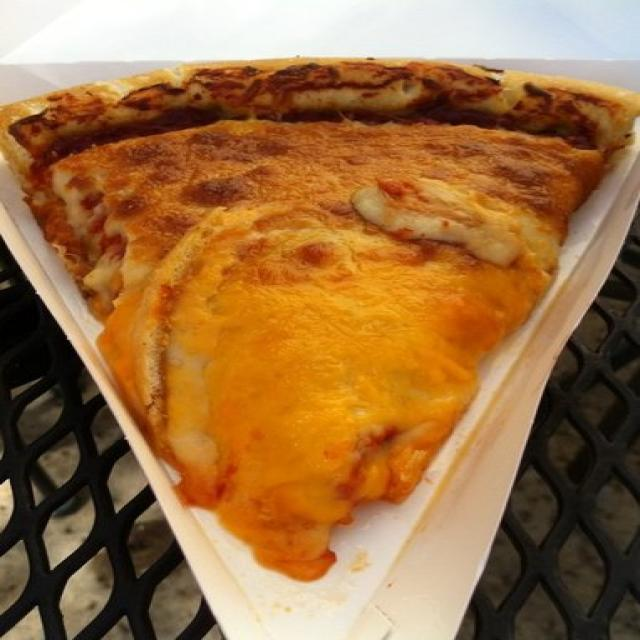Pizza: (0, 59, 640, 582)
